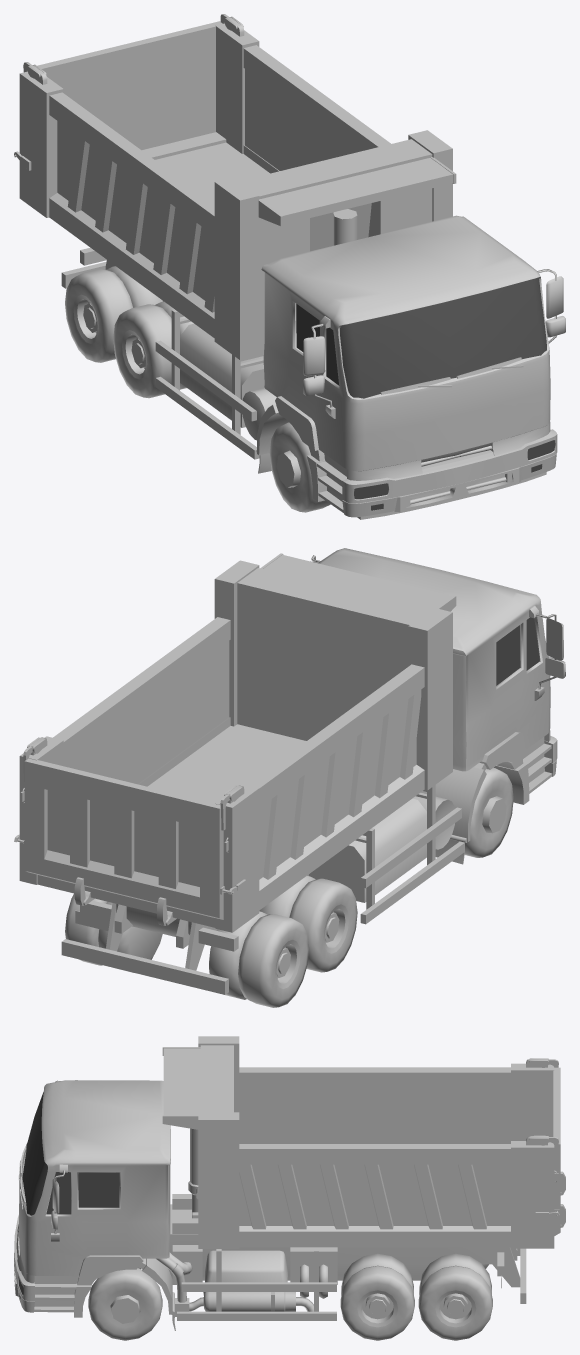
File: TipperDumpTruck_LOD1.FBX
3 renders of one model, top to bottom at view 1: azimuth 30°, elevation 25°; view 2: azimuth 150°, elevation 25°; view 3: azimuth 270°, elevation 25°, orthographic. The views are drawn at different scales.
Parts seen in each view (by area): view 1: Body_LOD1, Windows_LOD1; view 2: Body_LOD1, Windows_LOD1; view 3: Body_LOD1, Windows_LOD1.
Boxes of the visible parts, x1,y1,x2,y2 form: Body_LOD1: [14, 14, 565, 519]; Windows_LOD1: [296, 277, 554, 510]; Body_LOD1: [14, 548, 565, 1007]; Windows_LOD1: [496, 617, 539, 685]; Body_LOD1: [14, 1036, 565, 1340]; Windows_LOD1: [18, 1092, 119, 1299].
Size of the model in its own units: 5.71 by 5.83 by 12.98.
